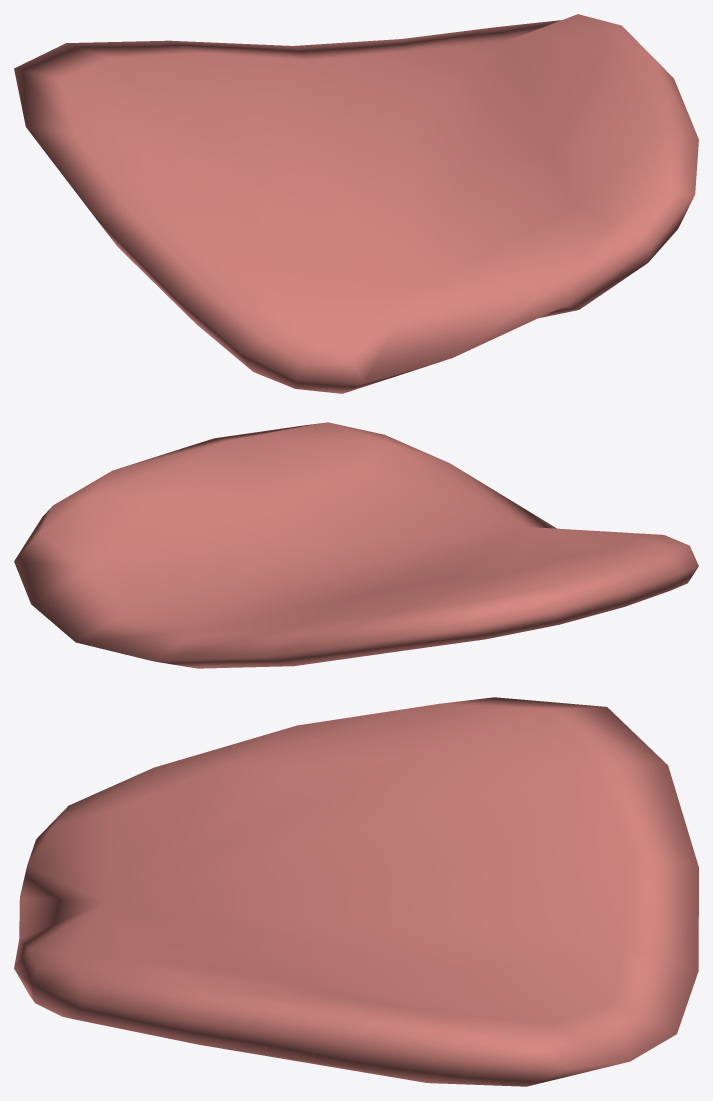
3 renders of one model, top to bottom at view 1: azimuth 30°, elevation 25°; view 2: azimuth 150°, elevation 25°; view 3: azimuth 270°, elevation 25°, orthographic. The views are drawn at different scales.
Visible parts, largest first — view 1: ZA_cb91eb4929ea6ab7; view 2: ZA_cb91eb4929ea6ab7; view 3: ZA_cb91eb4929ea6ab7.
Part boxes in pixels (x1=…): ZA_cb91eb4929ea6ab7: x1=14, y1=14, x2=698, y2=393; ZA_cb91eb4929ea6ab7: x1=14, y1=422, x2=698, y2=668; ZA_cb91eb4929ea6ab7: x1=14, y1=697, x2=698, y2=1086.
Size of the model in its own units: 0.00508 by 0.00127 by 0.00462.
